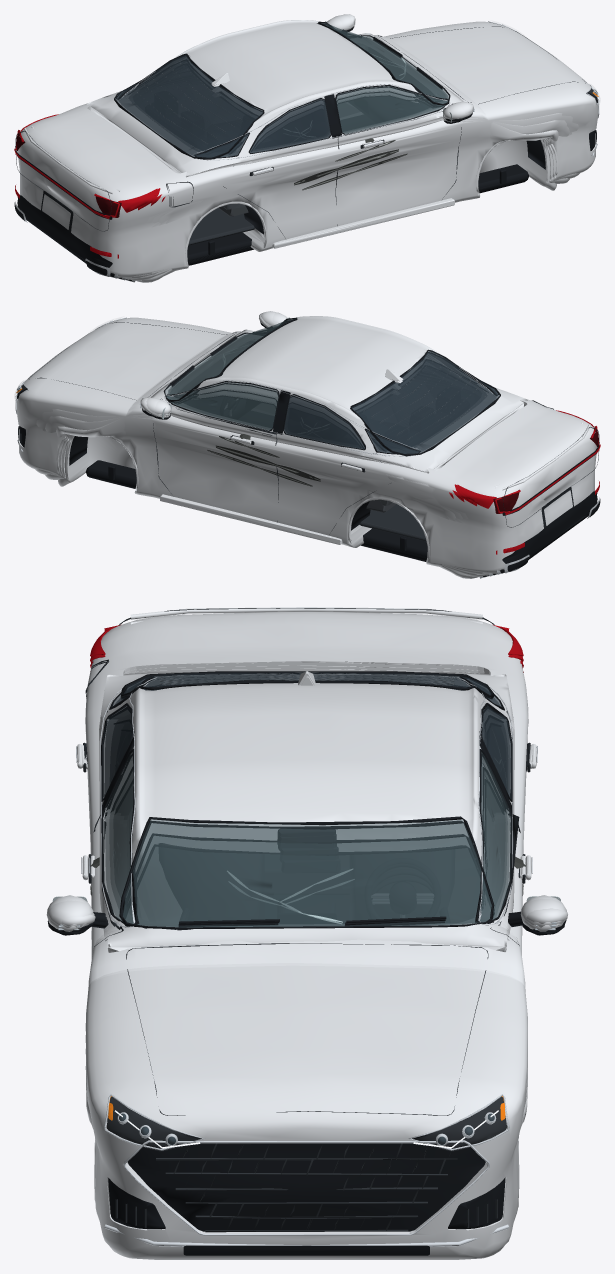
Rendered from hyundai_sonata_damage.glb.
The picture shows the model from 3 angles, top to bottom: view 1: azimuth 30°, elevation 25°; view 2: azimuth 150°, elevation 25°; view 3: azimuth 270°, elevation 25°; orthographic projection. The views are drawn at different scales.
Parts seen in each view (by area): view 1: ScuffedBodyPaint, ScuffedGlazing, DentedGlazing, ScuffedRubberTrimAndUnderbody, BatteredBodyPaint, DentedBodyPaint, CrumpledBodyPaint, BatteredRubberTrimAndUnderbody, ScuffedRearBrakeLights, ScuffedCabinAndSeats, DentedRubberTrimAndUnderbody, ScuffedMetalwork (+1 smaller); view 2: ScuffedBodyPaint, ScuffedGlazing, DentedGlazing, ScuffedRubberTrimAndUnderbody, BatteredBodyPaint, CrumpledBodyPaint, DentedBodyPaint, BatteredRubberTrimAndUnderbody, ScuffedCabinAndSeats, ScuffedRearBrakeLights, DentedRubberTrimAndUnderbody, ScuffedMetalwork (+2 smaller); view 3: ScuffedBodyPaint, ScuffedRubberTrimAndUnderbody, ScuffedGlazing, DentedGlazing, BatteredBodyPaint, ScuffedMetalwork, DentedBodyPaint, CrumpledBodyPaint, BatteredGlazing, BatteredRubberTrimAndUnderbody, DentedRubberTrimAndUnderbody, CrumpledRubberTrimAndUnderbody (+2 smaller).
Boxes of the visible parts, x1,y1,x2,y2 form: ScuffedBodyPaint: (18, 17, 598, 277); ScuffedGlazing: (115, 23, 445, 157); DentedGlazing: (119, 25, 447, 156); ScuffedRubberTrimAndUnderbody: (14, 21, 597, 275); BatteredBodyPaint: (136, 14, 558, 282); DentedBodyPaint: (31, 14, 579, 278); CrumpledBodyPaint: (127, 20, 569, 280); BatteredRubberTrimAndUnderbody: (126, 29, 545, 280); ScuffedRearBrakeLights: (14, 114, 157, 256); ScuffedCabinAndSeats: (188, 203, 254, 245); DentedRubberTrimAndUnderbody: (110, 23, 526, 277); ScuffedMetalwork: (15, 21, 599, 276); ScuffedBodyPaint: (16, 312, 596, 573); ScuffedGlazing: (171, 319, 499, 454); DentedGlazing: (168, 322, 496, 452); ScuffedRubberTrimAndUnderbody: (17, 317, 600, 571); BatteredBodyPaint: (56, 313, 525, 578); CrumpledBodyPaint: (45, 320, 526, 576); DentedBodyPaint: (35, 311, 583, 574); BatteredRubberTrimAndUnderbody: (69, 321, 488, 576); ScuffedCabinAndSeats: (359, 499, 426, 541); ScuffedRearBrakeLights: (457, 410, 600, 553); DentedRubberTrimAndUnderbody: (88, 320, 548, 573); ScuffedMetalwork: (15, 317, 599, 573); ScuffedBodyPaint: (46, 607, 565, 1259); ScuffedRubberTrimAndUnderbody: (47, 608, 564, 1255); ScuffedGlazing: (102, 672, 511, 922); DentedGlazing: (105, 674, 509, 925); BatteredBodyPaint: (61, 668, 567, 1128); ScuffedMetalwork: (52, 672, 560, 1246); DentedBodyPaint: (47, 620, 566, 1101); CrumpledBodyPaint: (62, 665, 567, 1165); BatteredGlazing: (137, 879, 487, 926); BatteredRubberTrimAndUnderbody: (78, 691, 566, 959); DentedRubberTrimAndUnderbody: (48, 661, 560, 970); CrumpledRubberTrimAndUnderbody: (63, 689, 564, 940).
Bounding box in the file's own units: 4.93 × 1.42 × 2.2.
